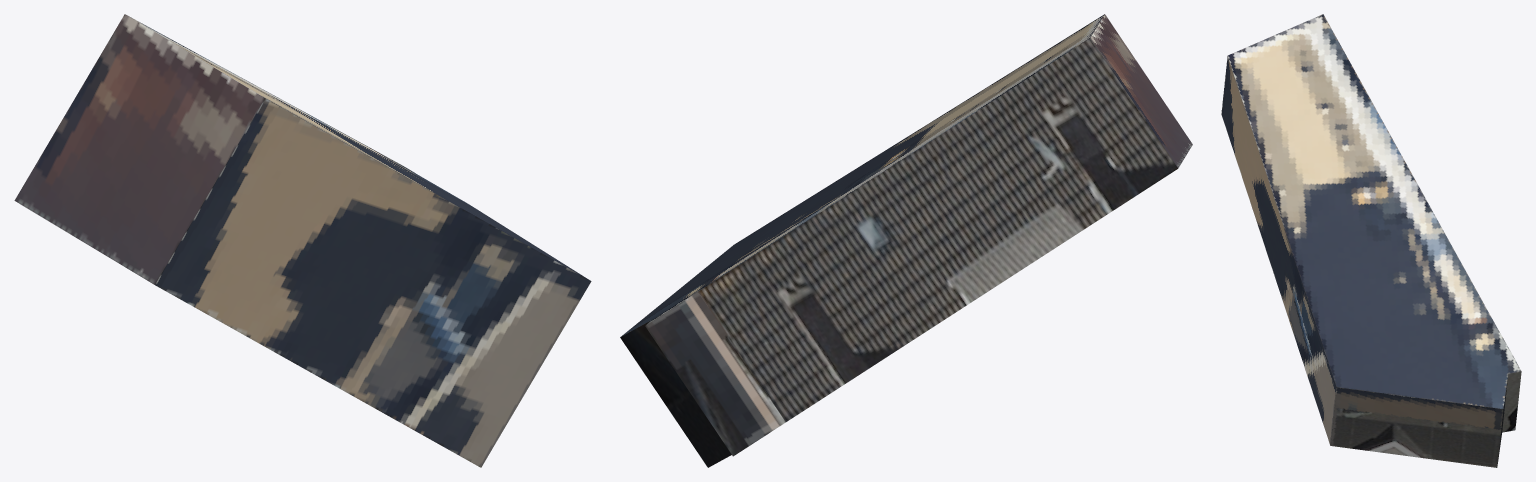
3 views of the same model, side by side, from view 1: azimuth 30°, elevation 25°; view 2: azimuth 150°, elevation 25°; view 3: azimuth 270°, elevation 25° (orthographic). The views are drawn at different scales.
Parts seen in each view (by area): view 1: BAG_0599100000760370 (×2); view 2: BAG_0599100000760370 (×3); view 3: BAG_0599100000760370 (×2).
Part boxes in pixels (x1,y1,x2,y2): BAG_0599100000760370 (×2): [14, 14, 591, 467]; BAG_0599100000760370 (×3): [620, 14, 1192, 467]; BAG_0599100000760370 (×2): [1221, 14, 1521, 467].
Bounding box in the file's own units: 12.28 × 11.08 × 8.77.
3 materials, 3 textured.
